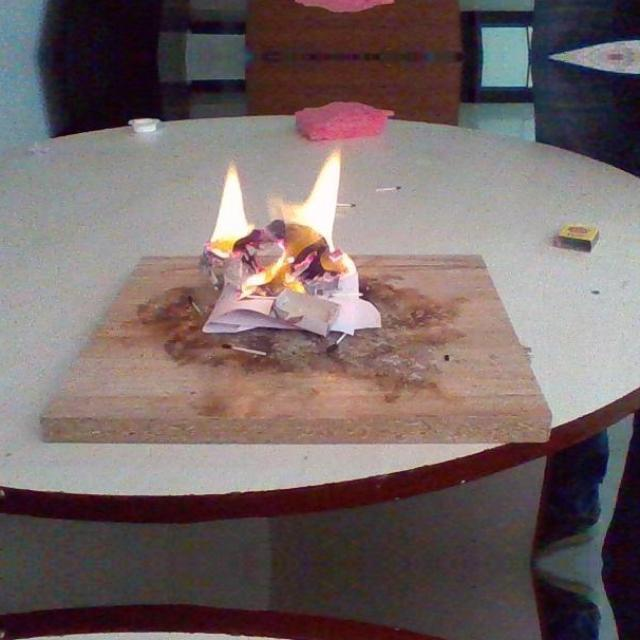smoke: (209, 145, 366, 296)
